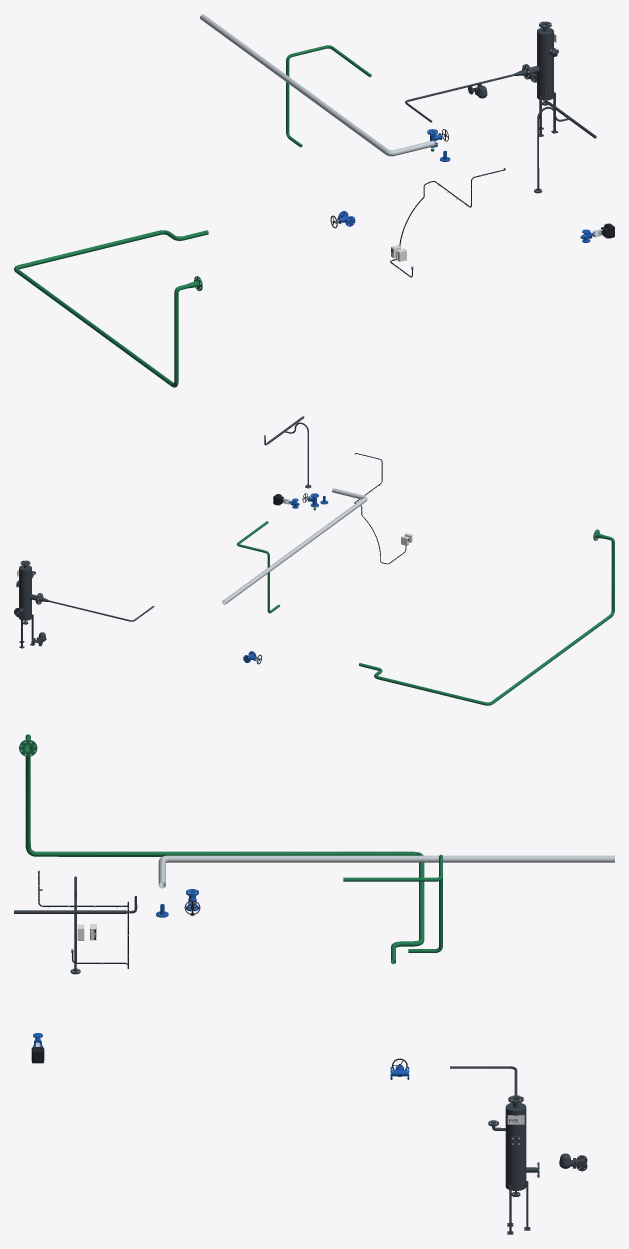
3 renders of one model, top to bottom at view 1: azimuth 30°, elevation 25°; view 2: azimuth 150°, elevation 25°; view 3: azimuth 270°, elevation 25°, orthographic. The views are drawn at different scales.
Visible parts, largest first — view 1: deaerator_feed / green, safety_vent_1 / steel, separator_fv8 / dark, from_economizer / green, pressure_header / dark, tds_to_fv / dark; view 2: deaerator_feed / green, safety_vent_1 / steel, separator_fv8 / dark; view 3: safety_vent_1 / steel, deaerator_feed / green, separator_fv8 / dark, from_economizer / green, pressure_header / dark.
Boxes of the visible parts, left/top/right/bottom form: deaerator_feed / green: left=14, top=230, right=208, bottom=387; safety_vent_1 / steel: left=200, top=14, right=435, bottom=156; separator_fv8 / dark: left=526, top=21, right=558, bottom=136; from_economizer / green: left=286, top=45, right=360, bottom=147; pressure_header / dark: left=534, top=87, right=596, bottom=193; tds_to_fv / dark: left=405, top=64, right=530, bottom=122; deaerator_feed / green: left=359, top=529, right=614, bottom=705; safety_vent_1 / steel: left=222, top=488, right=367, bottom=604; separator_fv8 / dark: left=14, top=560, right=40, bottom=648; safety_vent_1 / steel: left=158, top=855, right=614, bottom=888; deaerator_feed / green: left=19, top=734, right=424, bottom=964; separator_fv8 / dark: left=488, top=1095, right=539, bottom=1234; from_economizer / green: left=366, top=854, right=442, bottom=952; pressure_header / dark: left=14, top=876, right=137, bottom=974.
Bounding box in the file's own units: 8.64 × 2.87 × 6.38.
